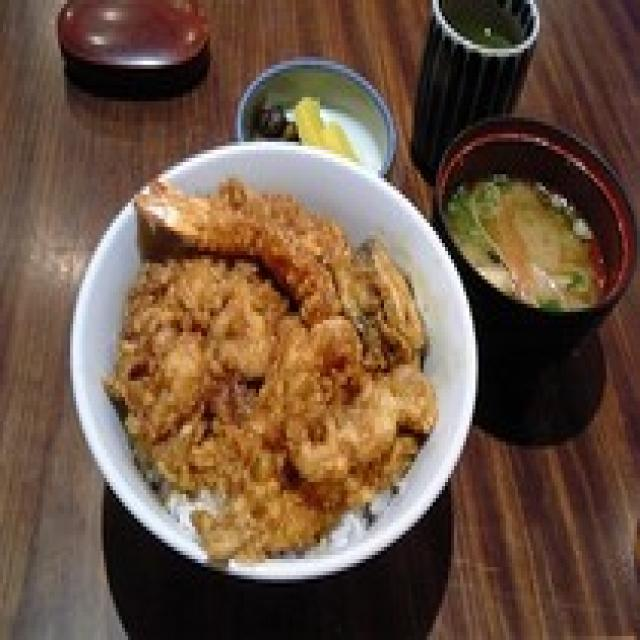汤锅炖物: (427, 113, 631, 320)
熟制海鲜: (64, 129, 472, 592)
